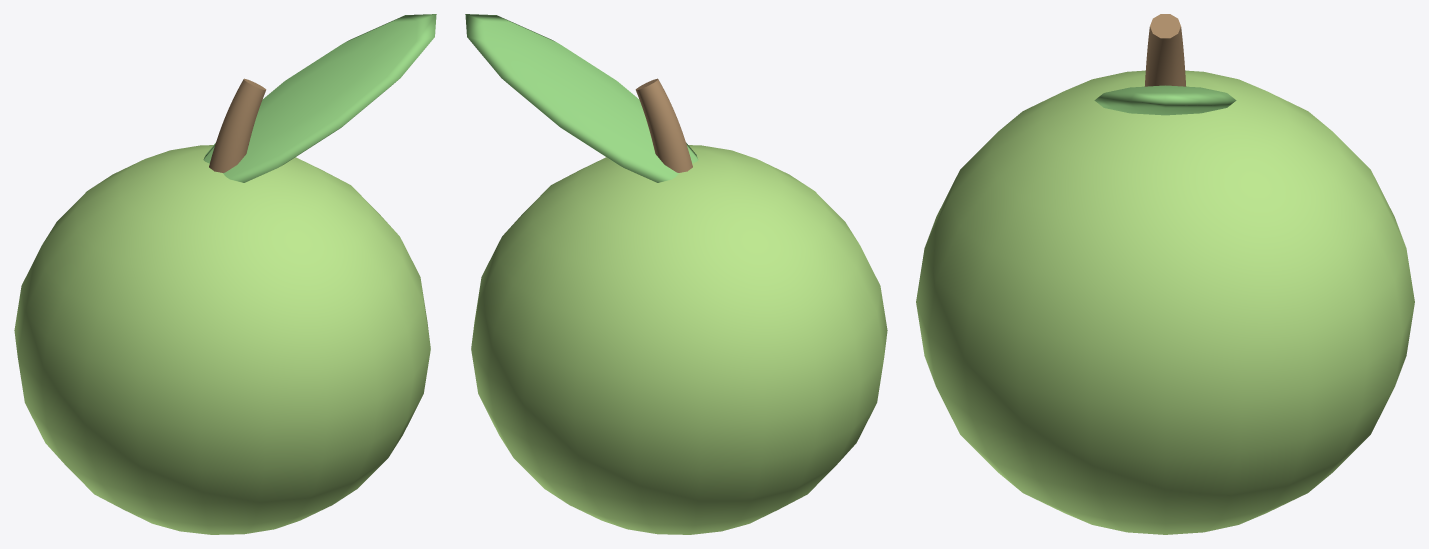
Rendered from SporeMelon.fbx.
3 views of the same model, side by side, from view 1: azimuth 30°, elevation 25°; view 2: azimuth 150°, elevation 25°; view 3: azimuth 270°, elevation 25° (orthographic). The views are drawn at different scales.
Parts seen in each view (by area): view 1: Handle, Leaf, Twig; view 2: Handle, Leaf, Twig; view 3: Handle, Leaf, Twig.
Part boxes in pixels (left/top/right/bottom): Handle: left=14, top=145, right=430, bottom=534; Leaf: left=203, top=14, right=436, bottom=182; Twig: left=209, top=78, right=266, bottom=172; Handle: left=471, top=145, right=887, bottom=534; Leaf: left=465, top=14, right=698, bottom=182; Twig: left=635, top=78, right=692, bottom=172; Handle: left=916, top=70, right=1414, bottom=534; Leaf: left=1094, top=85, right=1236, bottom=115; Twig: left=1144, top=14, right=1186, bottom=86.
Size of the model in its own units: 1.22 by 1.32 by 1.12.
